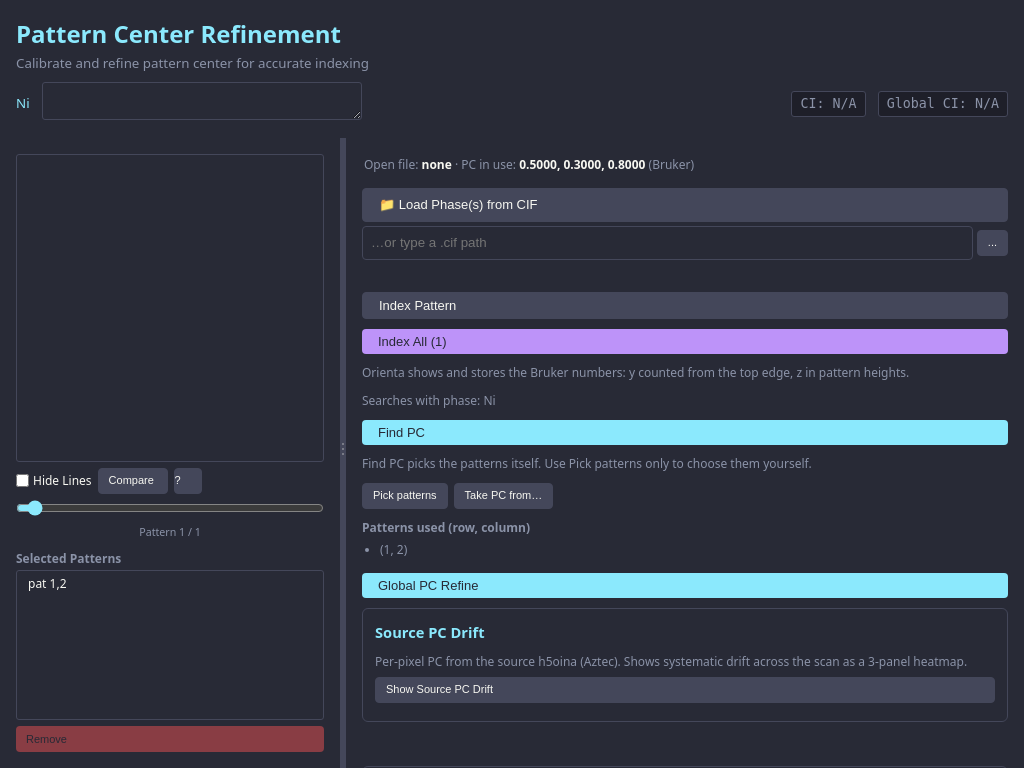
Test: forward preview NCC › shows the number for an orientation that was found, and no note
This screenshot has width=1024, height=768.
Click the element titled "Pattern at row 1, col 2" at (47, 584), box [28,575,66,592]
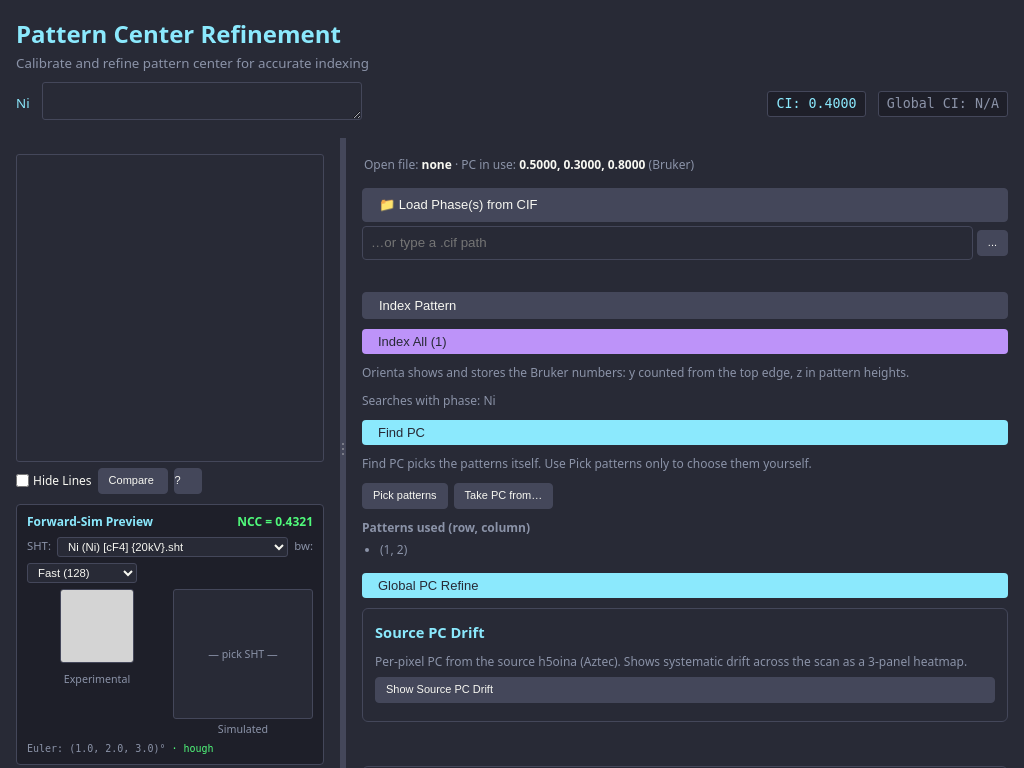
Expected: the text "NCC = 0.4321" is shown, [237,513,313,531]
